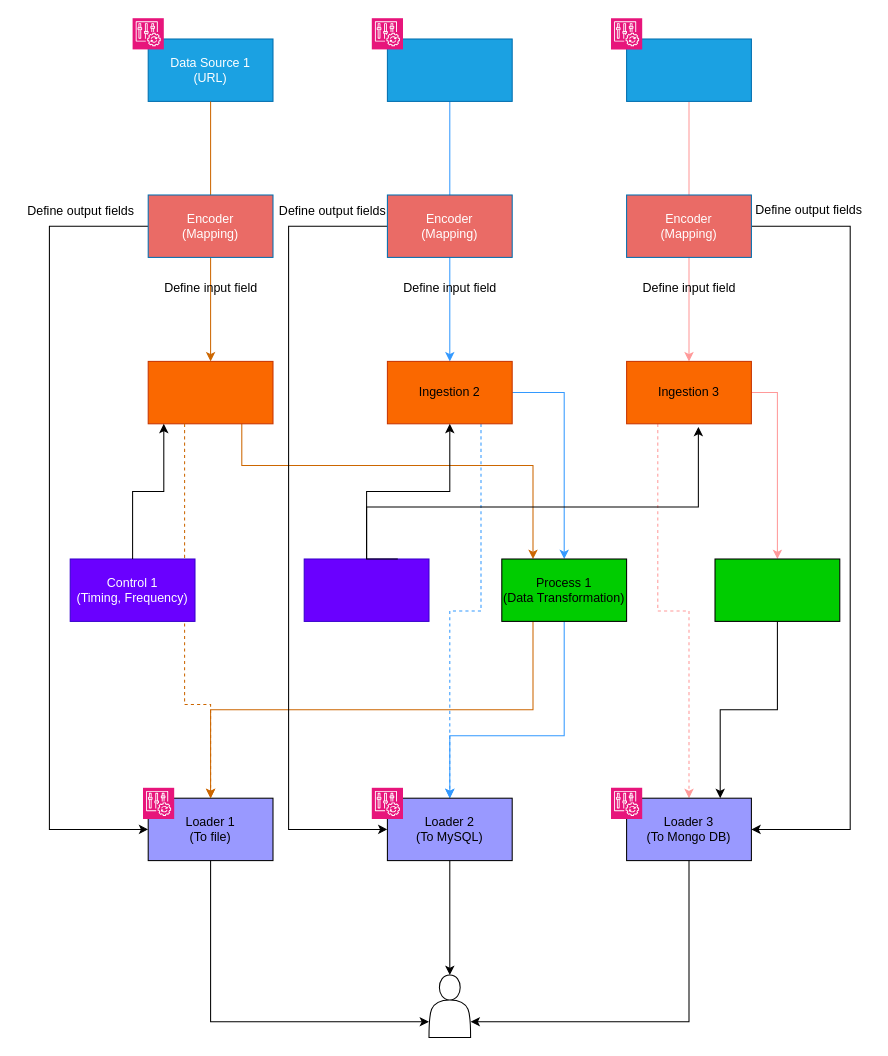
Image size: 888x1056. Some labels were removed from this diagram. Here are the shapes that lost their labels. From the top down, the centre of each, then its label:
At (x=449, y=69): "Data Source 2 (MySQL)".
At (x=688, y=69): "Data Source 3 (PDF file)".
At (x=210, y=392): "Ingestion 1".
At (x=366, y=589): "Control 2 (Timing, Frequency)".
At (x=777, y=589): "Process 2 (Data Transformation)".
